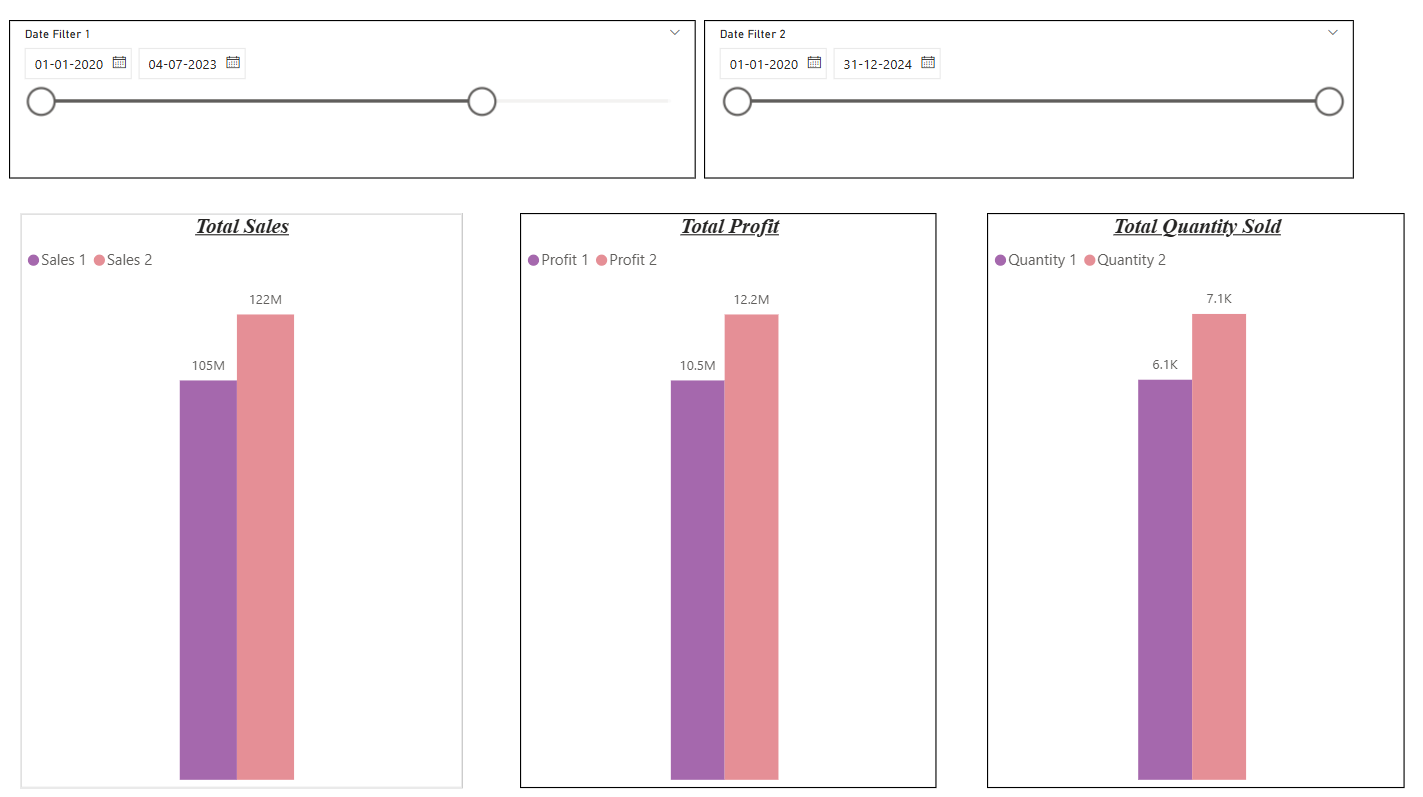

This screenshot's page, from the dashboard's own definition file:
{"tool":"powerbi","page":{"name":"Comparison Sales/Profit/Quantity","canvas":[1280,720],"ordinal":2},"visuals":[{"type":"slicer","fields":{"Values":["Date Table 1.Date"]},"box":[9.7,23.3,614.7,142],"z":0},{"type":"slicer","fields":{"Values":["Date Table 2.Date"]},"box":[632.2,23.3,581.6,142],"z":1000},{"type":"clusteredColumnChart","title":"Total Sales","fields":{"Y":["Sum(Fact Table.Net Sales)","Date Table 1.Sum of Net Sales"]},"box":[19.7,196.1,395.8,514.9],"z":2000},{"type":"clusteredColumnChart","title":"Total Profit","fields":{"Y":["Sum(Fact Table.Profit)","Measures Table.Total Profit"]},"box":[467.5,196.1,373.4,514.9],"z":3000},{"type":"clusteredColumnChart","title":"Total Quantity Sold","fields":{"Y":["Sum(Fact Table.Units Sold)","Measures Table.Quantity Sold"]},"box":[885.7,196.1,374.3,514.9],"z":4000}]}

Visuals, with their boxes in screenshot pixels (x1, y1, x2, y2), scaled from the page's 1280x720 canvas onto the 1423x797 screenshot:
slicer - Date Table 1.Date: (11,26,694,183)
slicer - Date Table 2.Date: (703,26,1349,183)
"Total Sales" clusteredColumnChart: (22,217,462,787)
"Total Profit" clusteredColumnChart: (520,217,935,787)
"Total Quantity Sold" clusteredColumnChart: (985,217,1401,787)
